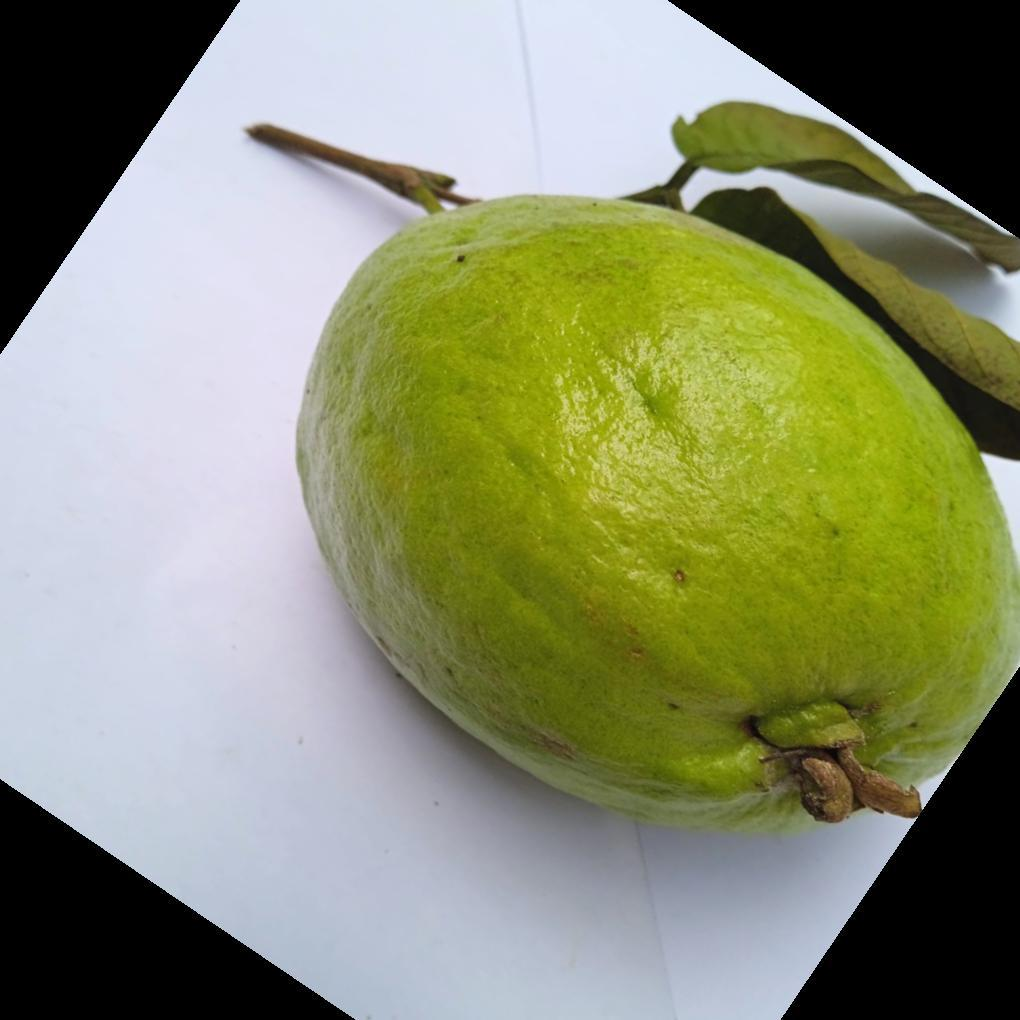FreshGuava: (293, 196, 1020, 842)
